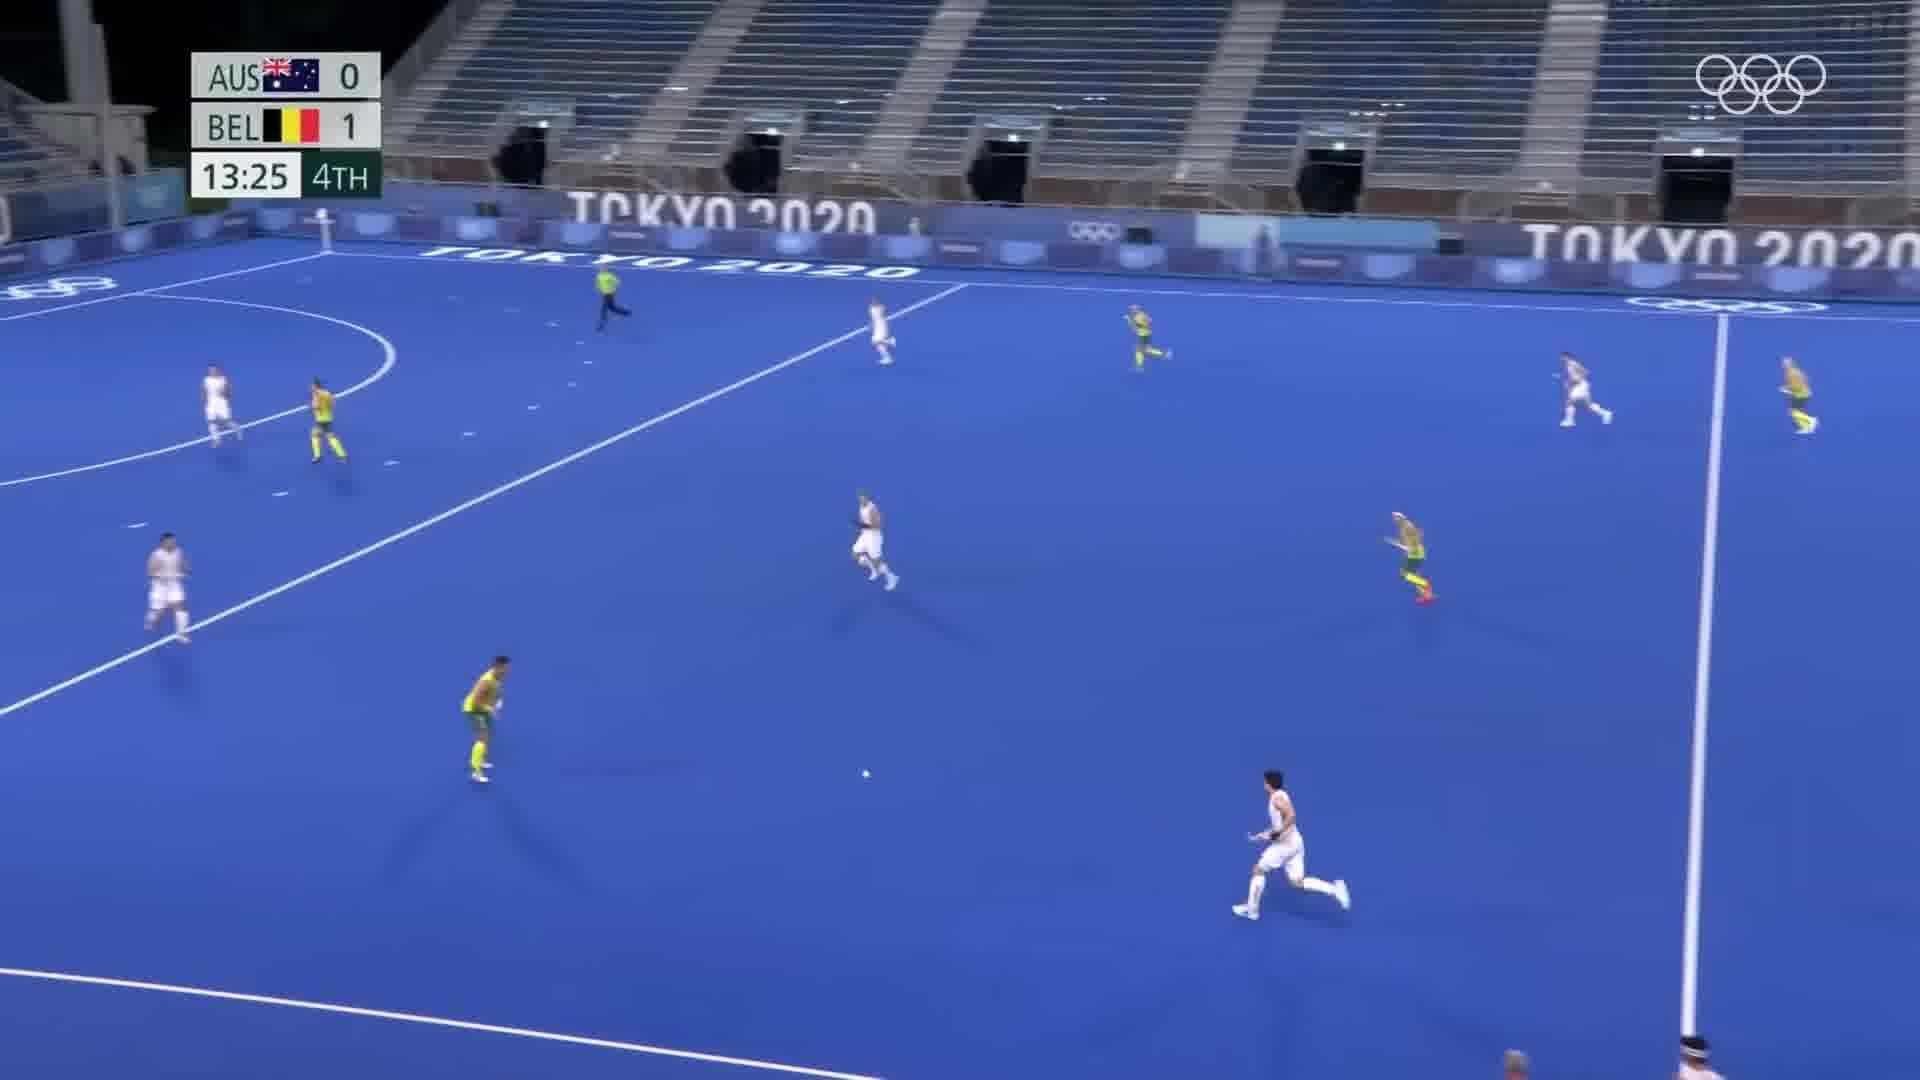ball: (852, 758, 884, 789)
